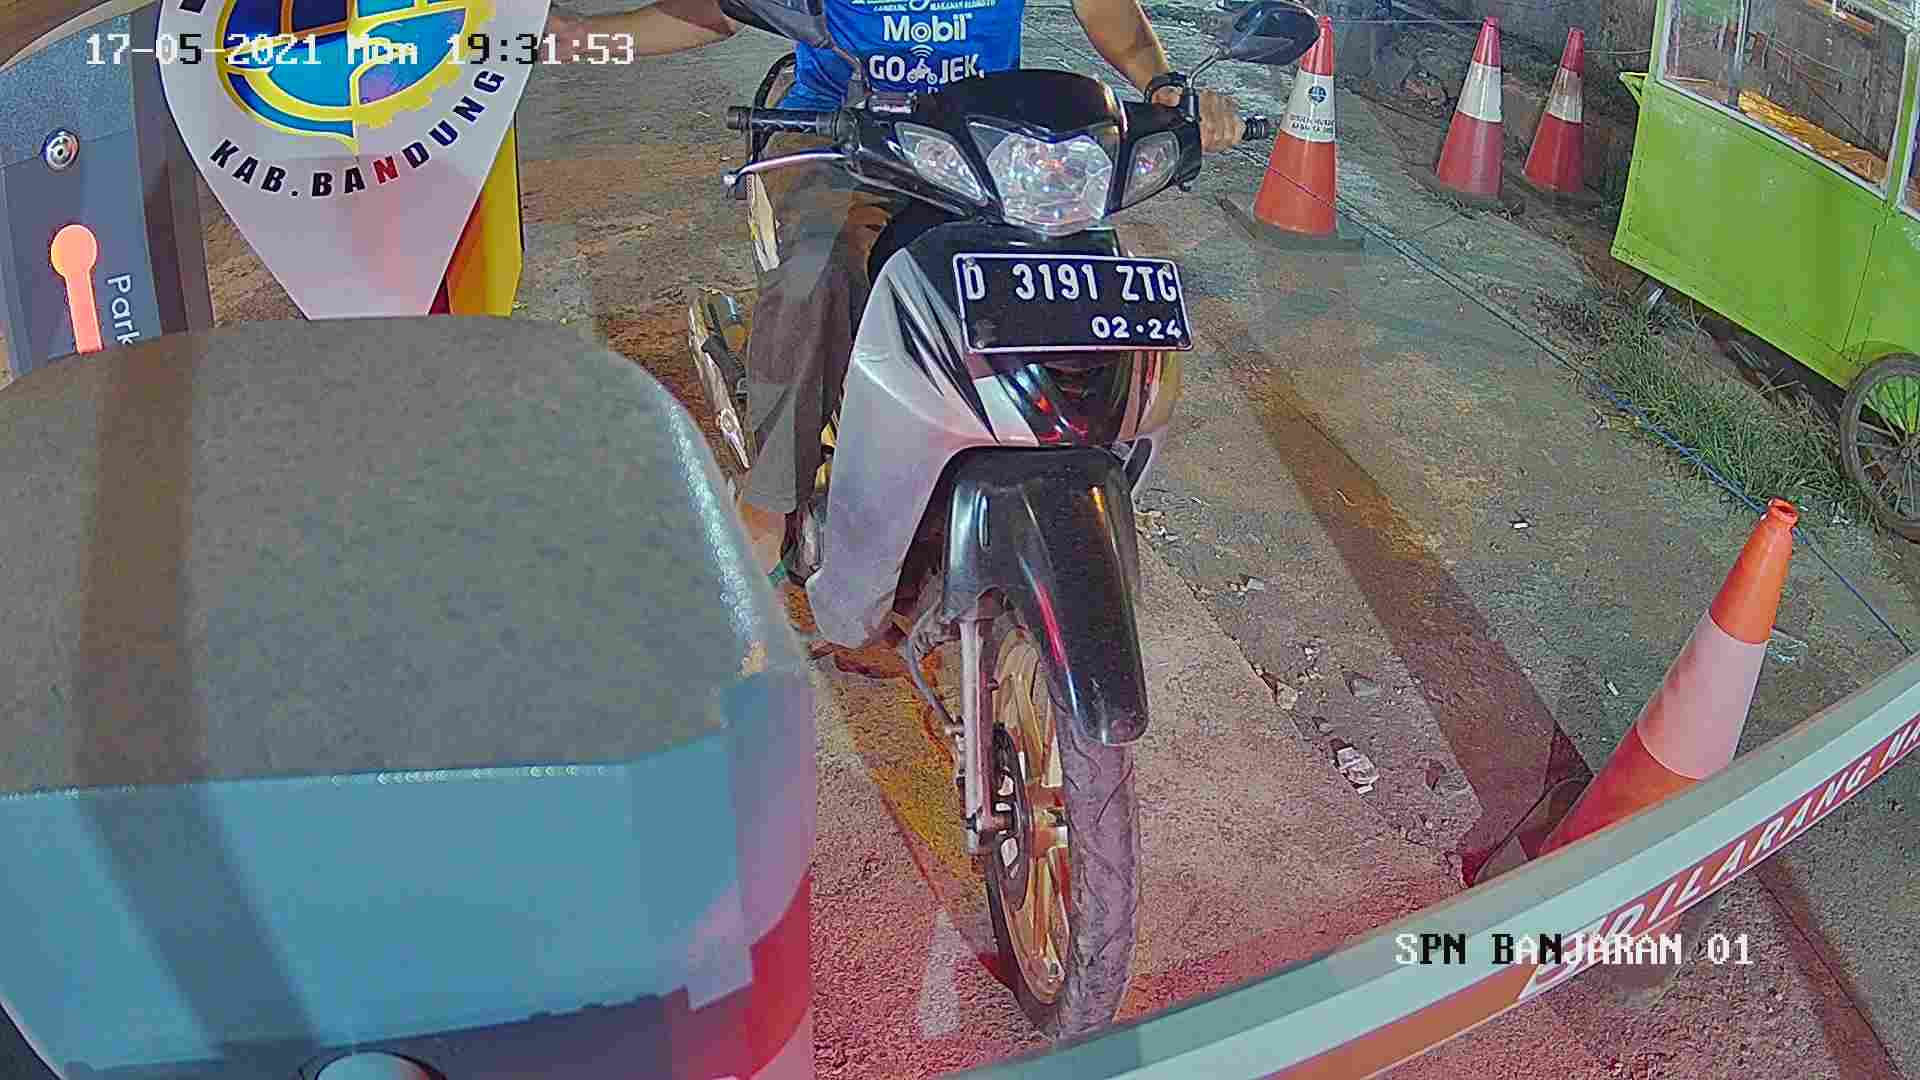motor: (700, 117, 1287, 1023)
